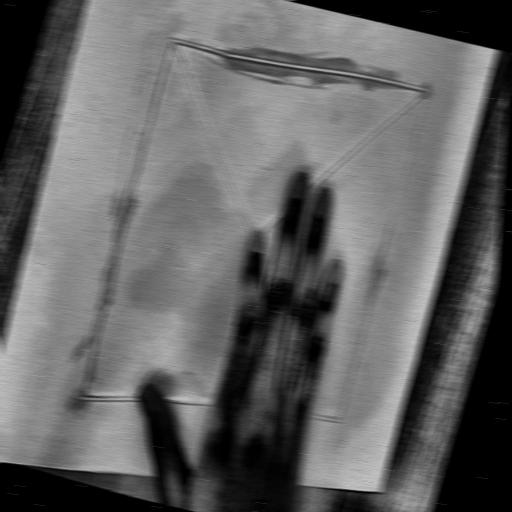bottom_right: (370, 480, 390, 500)
envelop: (67, 10, 436, 478)
